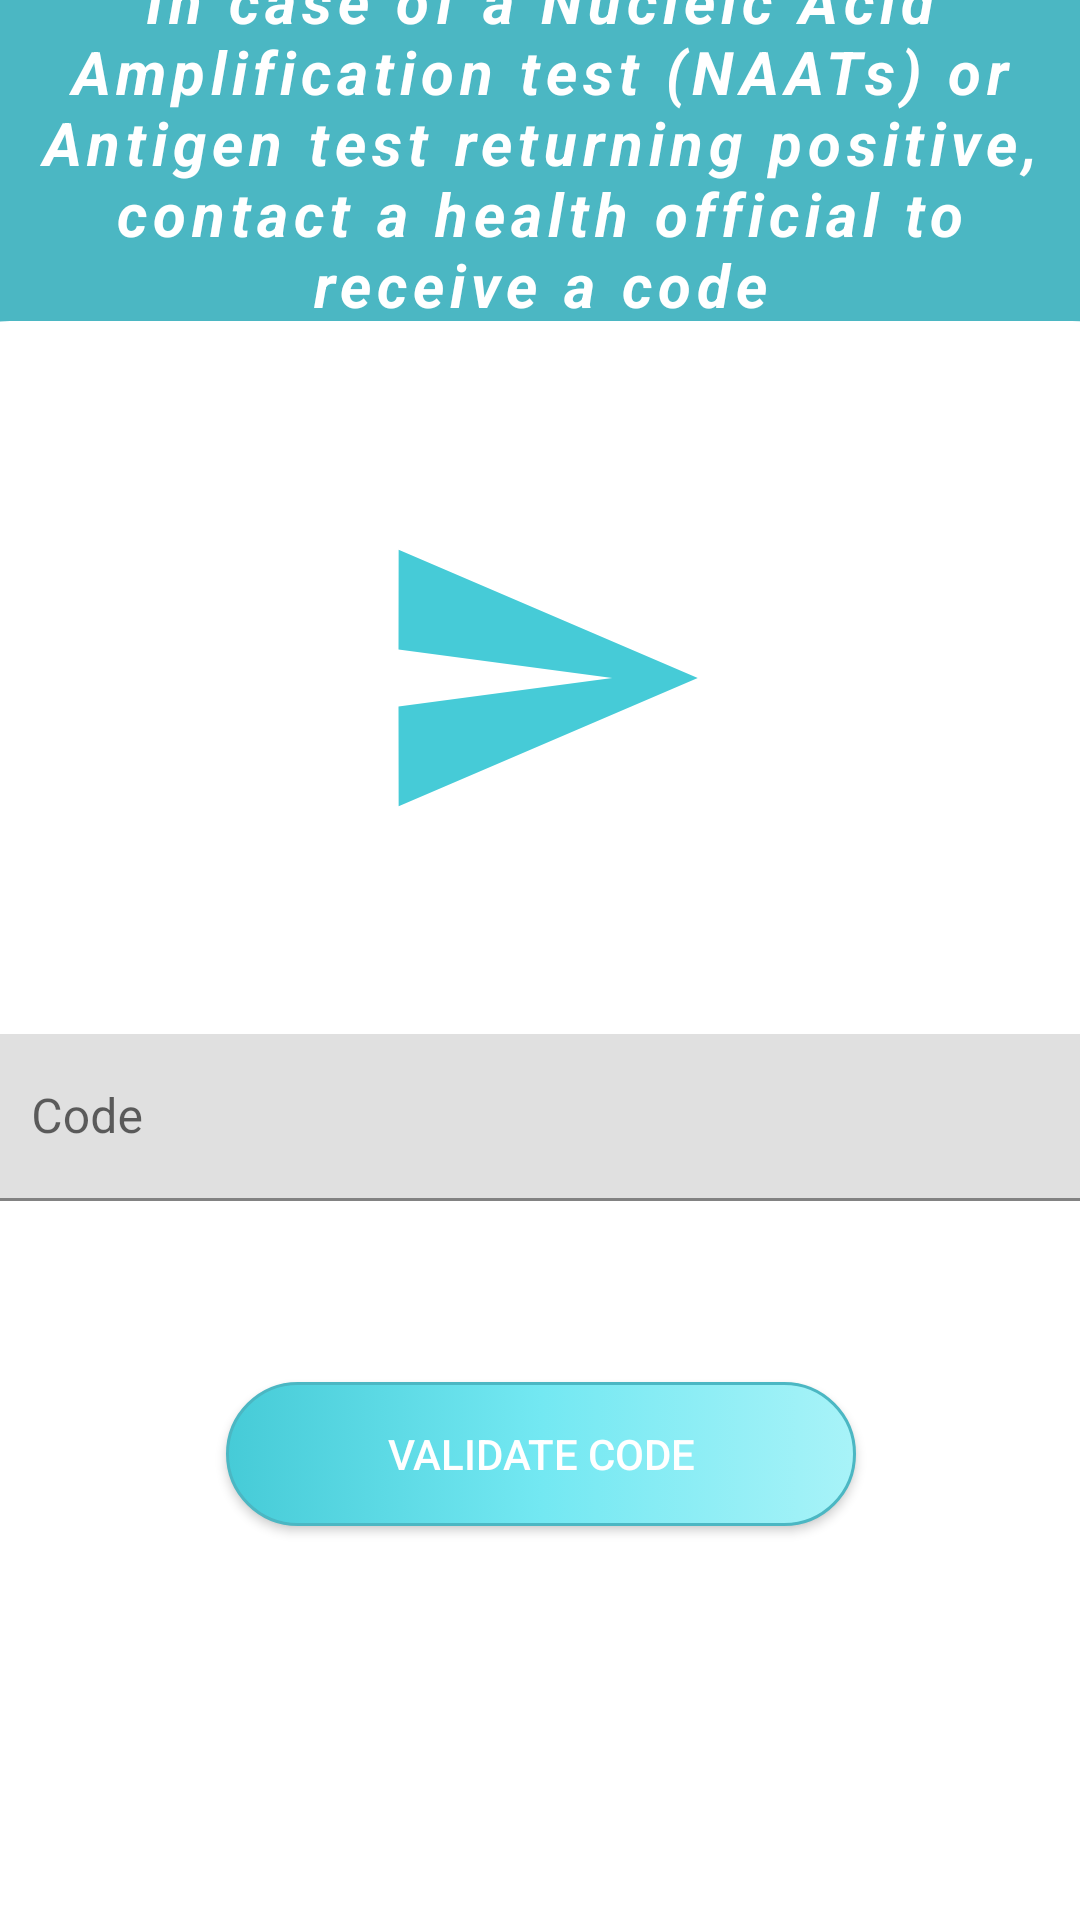

Locate icon controls on the screen. Image size 1080*1920, boxes as (x1, y1, x2, y2).
send: (398, 550, 697, 806)
